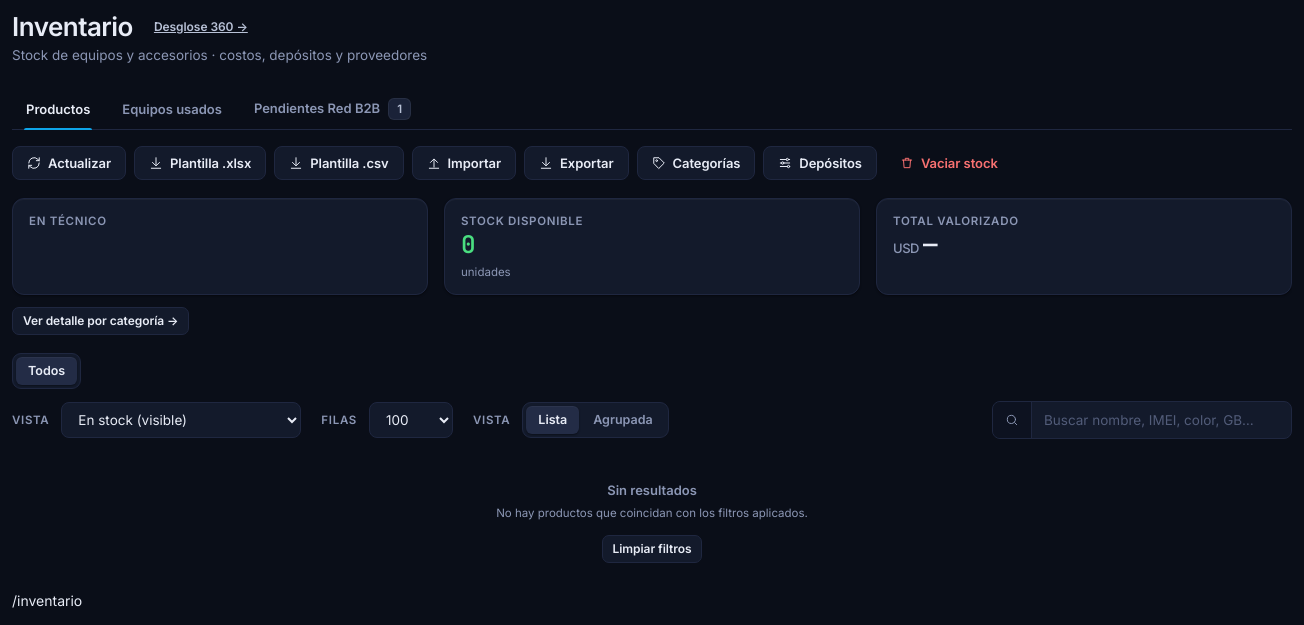
Test case: Pantalla Inventario › PR-X3: click en tab "Pendientes Red B2B" renderea el contenido del feature
Step 1. Click the tab "Pendientes Red B2B 1" → [332, 109], box [240, 89, 425, 129]
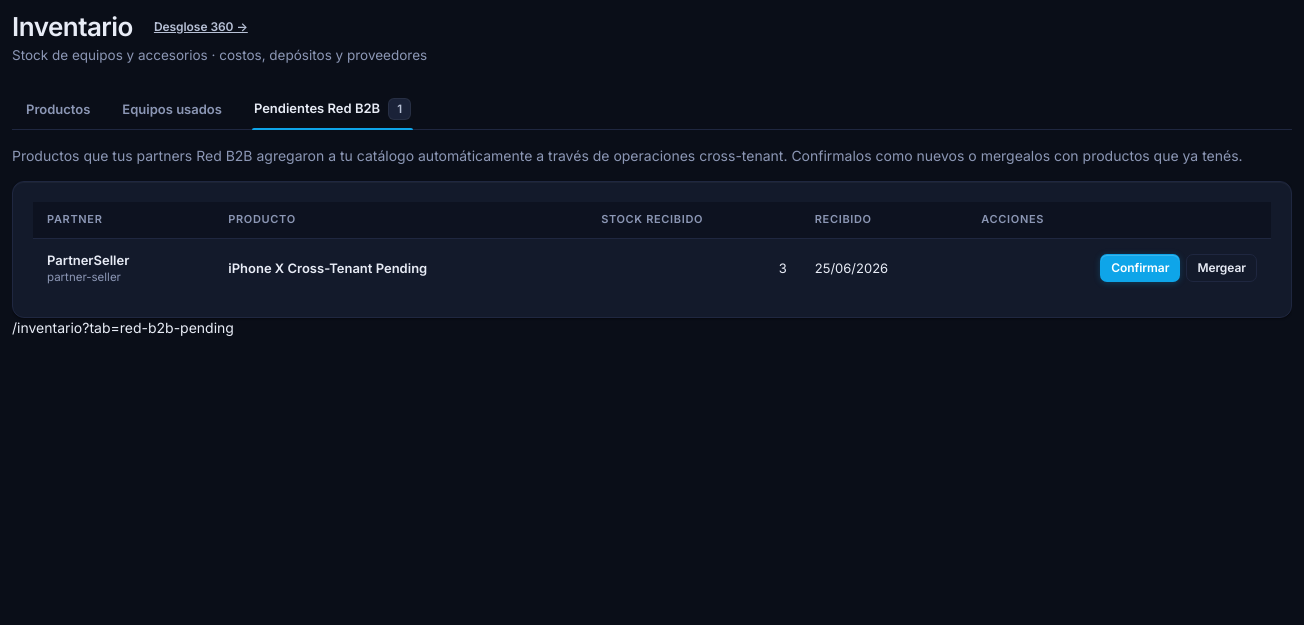
Expected: the text "iPhone X Cross-Tenant Pending" is shown, [228, 260, 427, 276]
